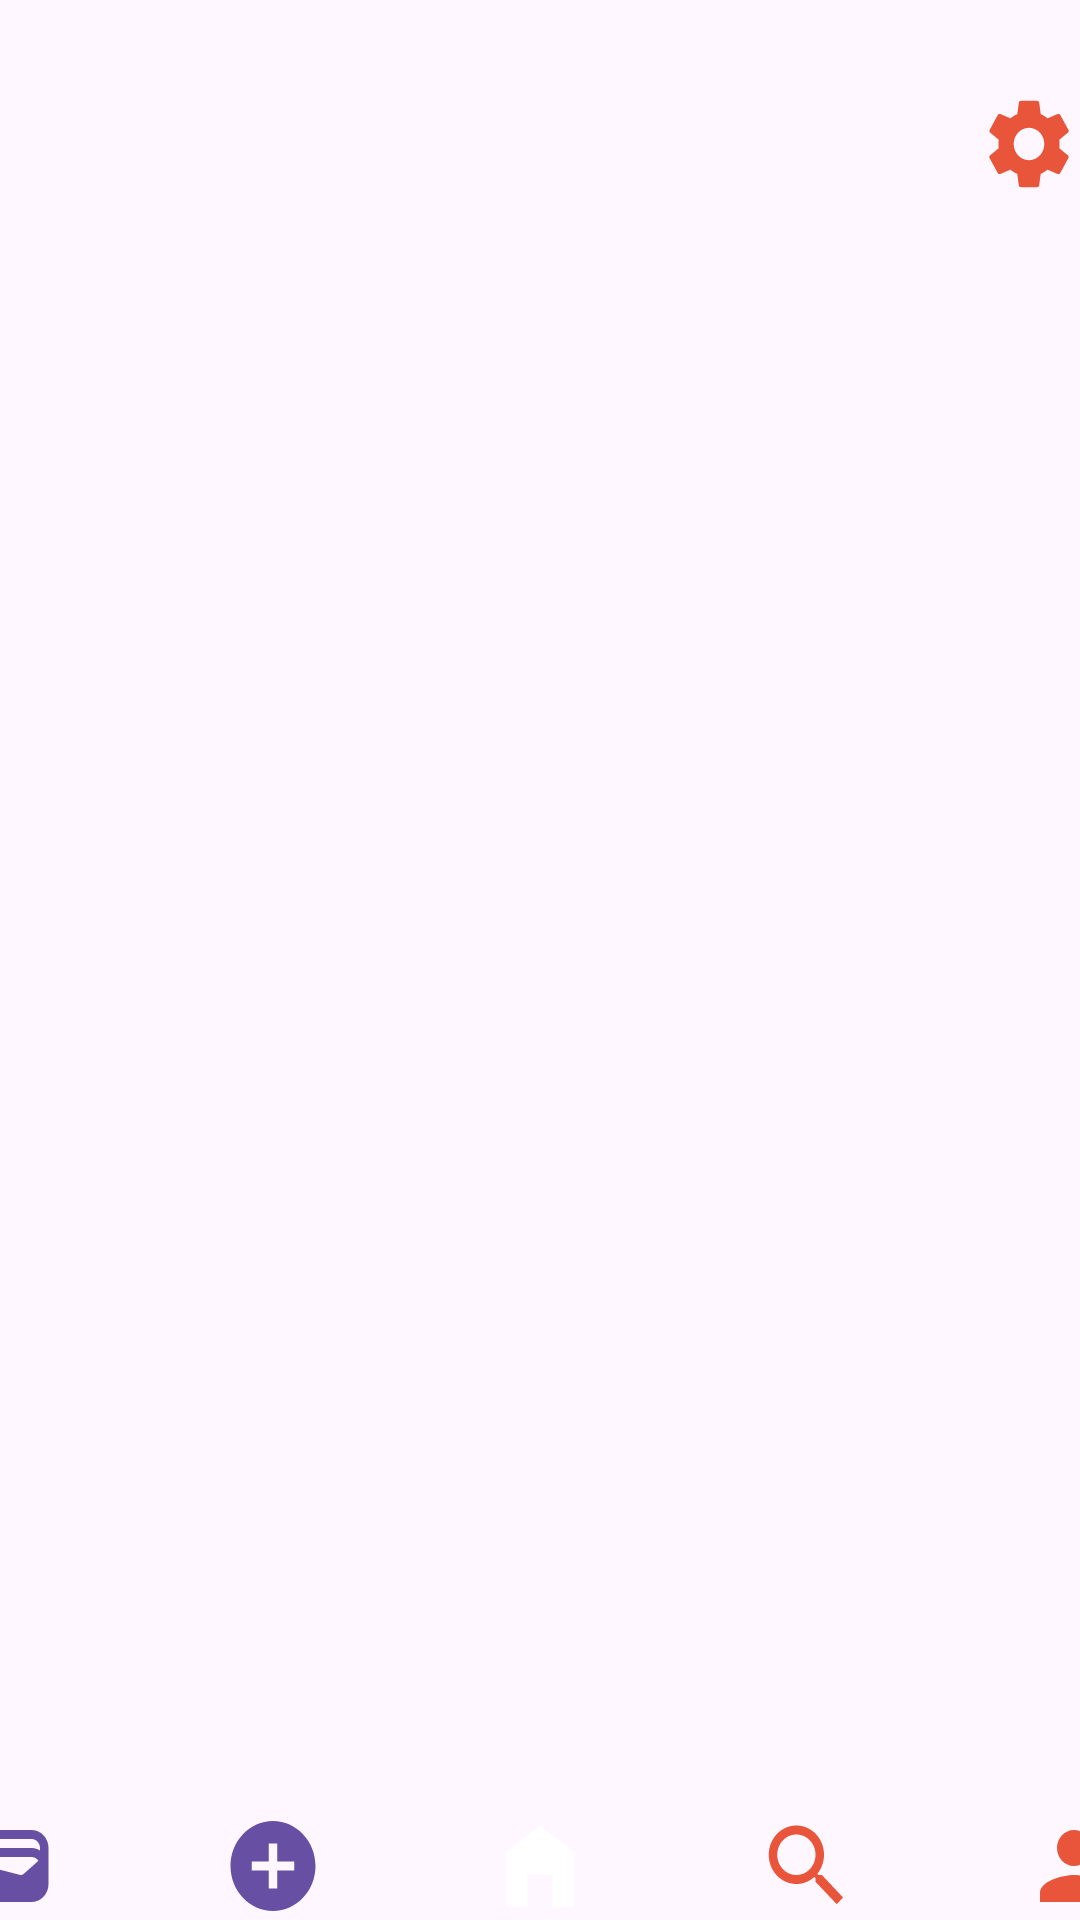

Icons on this 1080 x 1920 Android screen, each with the point to tap as point (x, y):
Add Ring: point (273, 1866)
Search: point (805, 1864)
settings: point (1029, 144)
